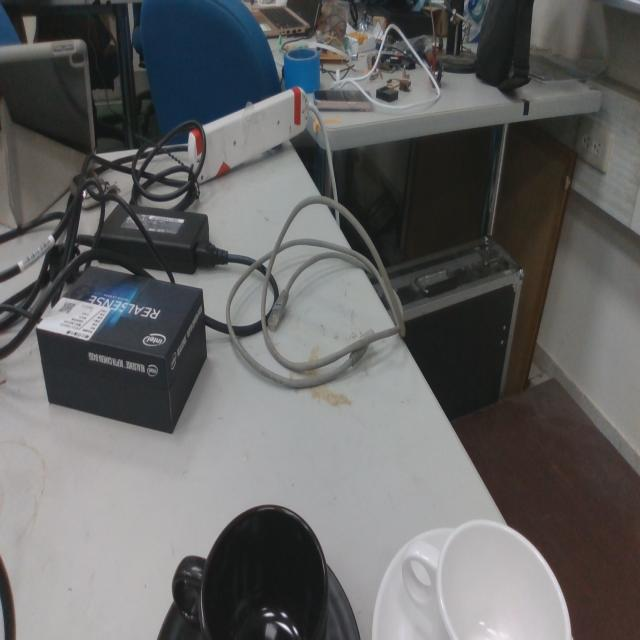black: (154, 499, 366, 640)
white: (368, 513, 576, 640)
